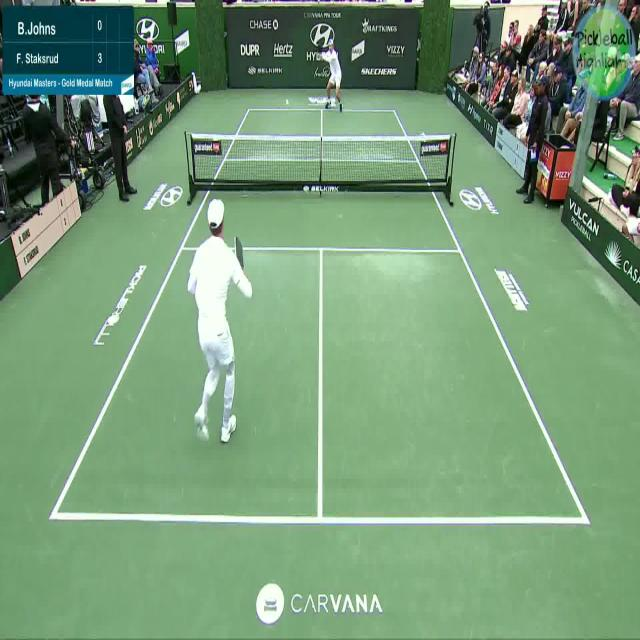ball: (285, 97, 289, 106)
